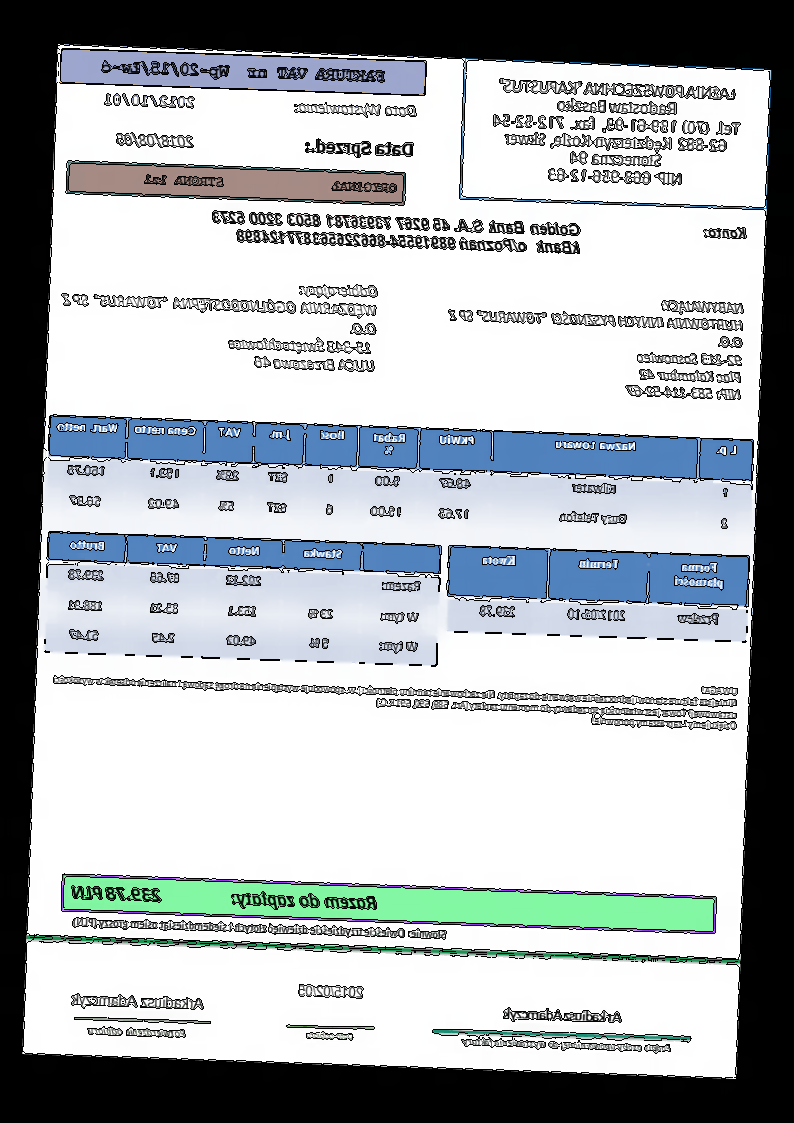Table: (45, 414, 755, 546), (44, 530, 443, 666), (445, 544, 752, 644)
TextBox: (51, 661, 740, 732), (443, 289, 747, 402), (59, 272, 381, 375), (489, 75, 744, 189), (209, 209, 584, 257), (73, 914, 449, 942), (69, 882, 380, 913), (98, 56, 387, 86), (143, 169, 400, 196), (459, 1033, 674, 1056), (69, 991, 206, 1015), (303, 135, 416, 161), (291, 98, 418, 121), (501, 1005, 624, 1026), (100, 91, 197, 113), (87, 1023, 189, 1040), (113, 131, 196, 150), (297, 982, 366, 1000), (704, 223, 748, 242), (306, 1029, 356, 1041)
